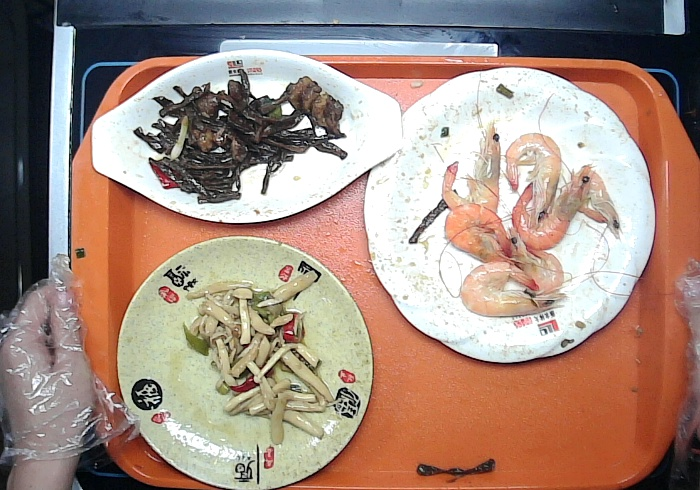NLDX-Bai_Zhe_Yuan_Pan: (362, 62, 659, 366)
NLDX-Fu_Zi_Yuan_Pan: (113, 233, 376, 490)
NLDX-Yu_Pan: (88, 47, 405, 226)
